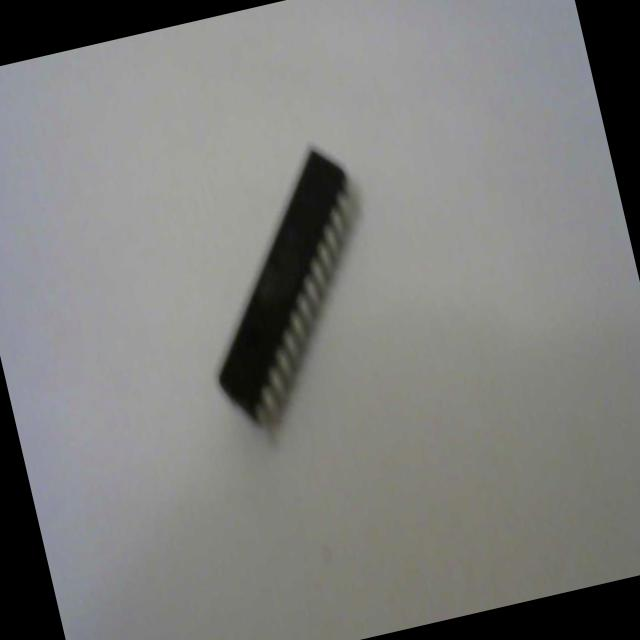atmega: (167, 133, 406, 444)
